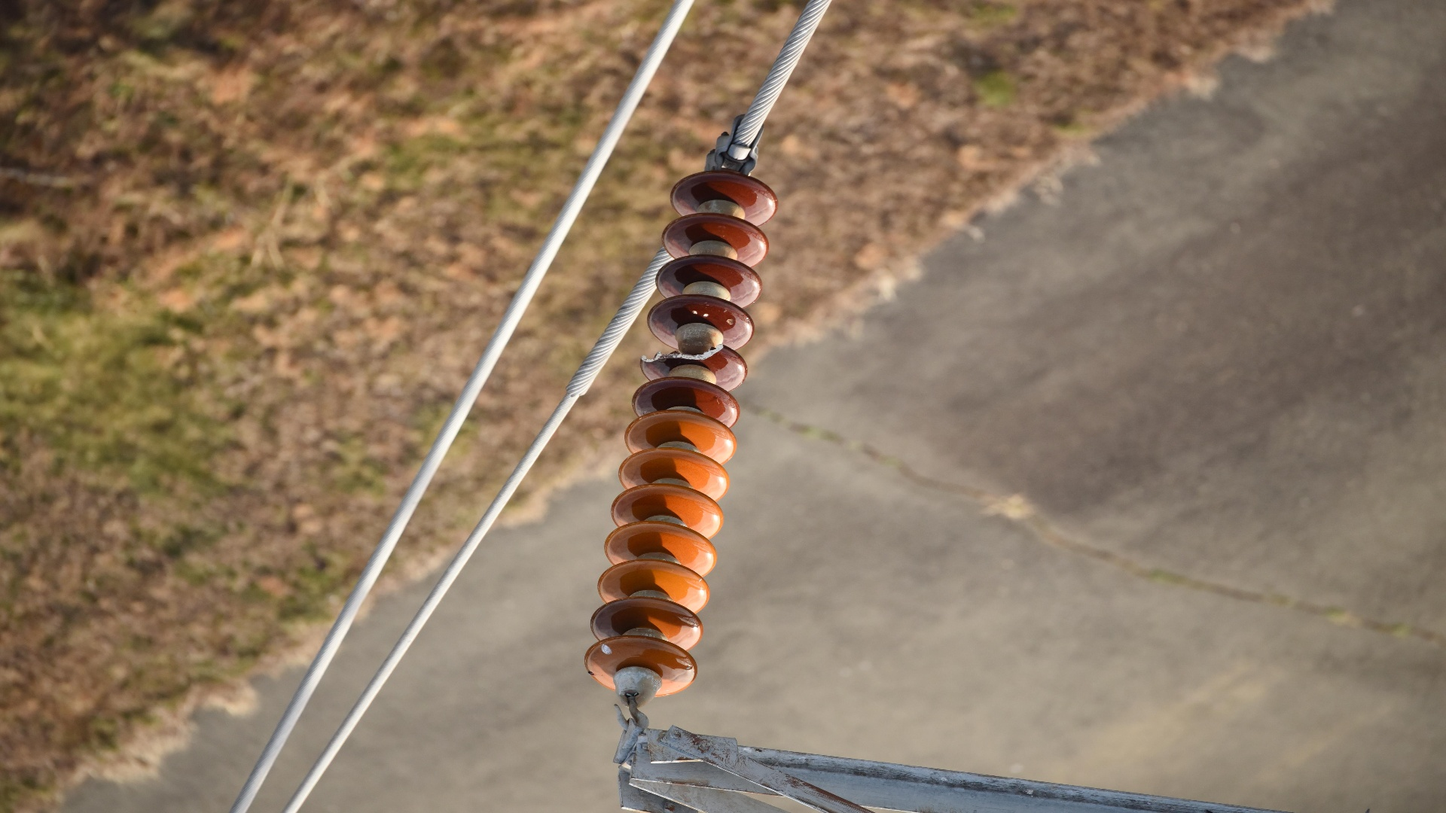insulator: (581, 168, 780, 702)
insulator_breakage: (639, 340, 728, 369)
